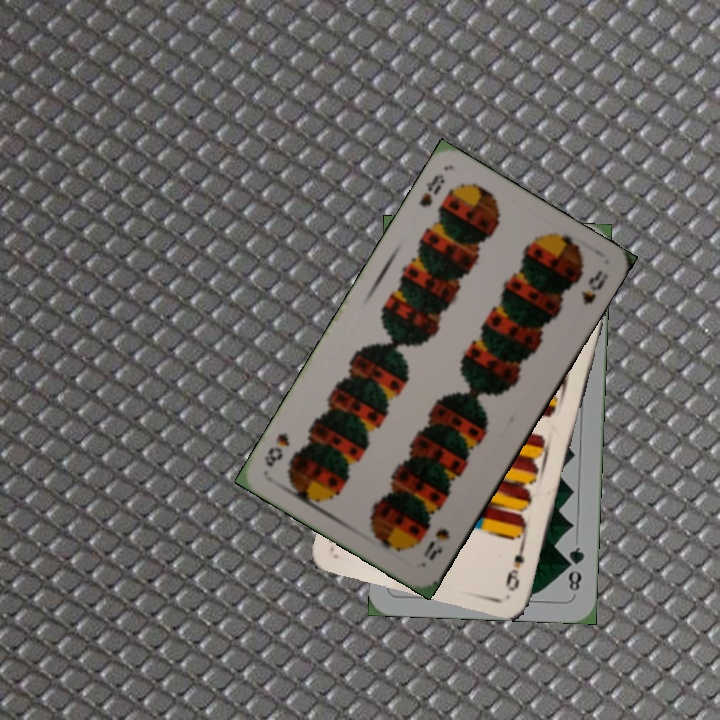E9: (501, 537, 529, 594)
G8: (563, 543, 587, 597)
S8: (415, 169, 448, 210), (419, 524, 453, 563)
